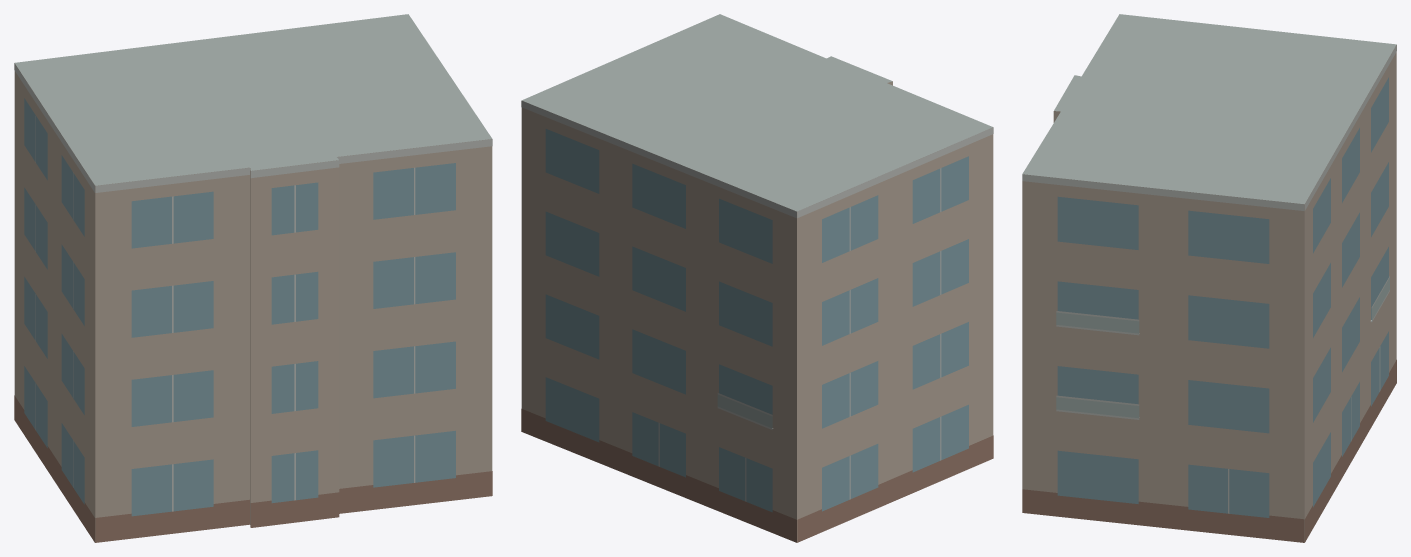
Rendered from survey-upis-32689471.glb.
3 views of the same model, side by side, from view 1: azimuth 30°, elevation 25°; view 2: azimuth 150°, elevation 25°; view 3: azimuth 270°, elevation 25° (orthographic). The views are drawn at different scales.
Visible parts, largest first — view 1: survey-upis-32689471.tmp; view 2: survey-upis-32689471.tmp; view 3: survey-upis-32689471.tmp.
Part boxes in pixels (box(x1,y1,x2,y2)): survey-upis-32689471.tmp: box(14, 14, 492, 542); survey-upis-32689471.tmp: box(521, 14, 993, 542); survey-upis-32689471.tmp: box(1022, 14, 1396, 542).
Bounding box in the file's own units: 14.35 × 11.9 × 11.94.
